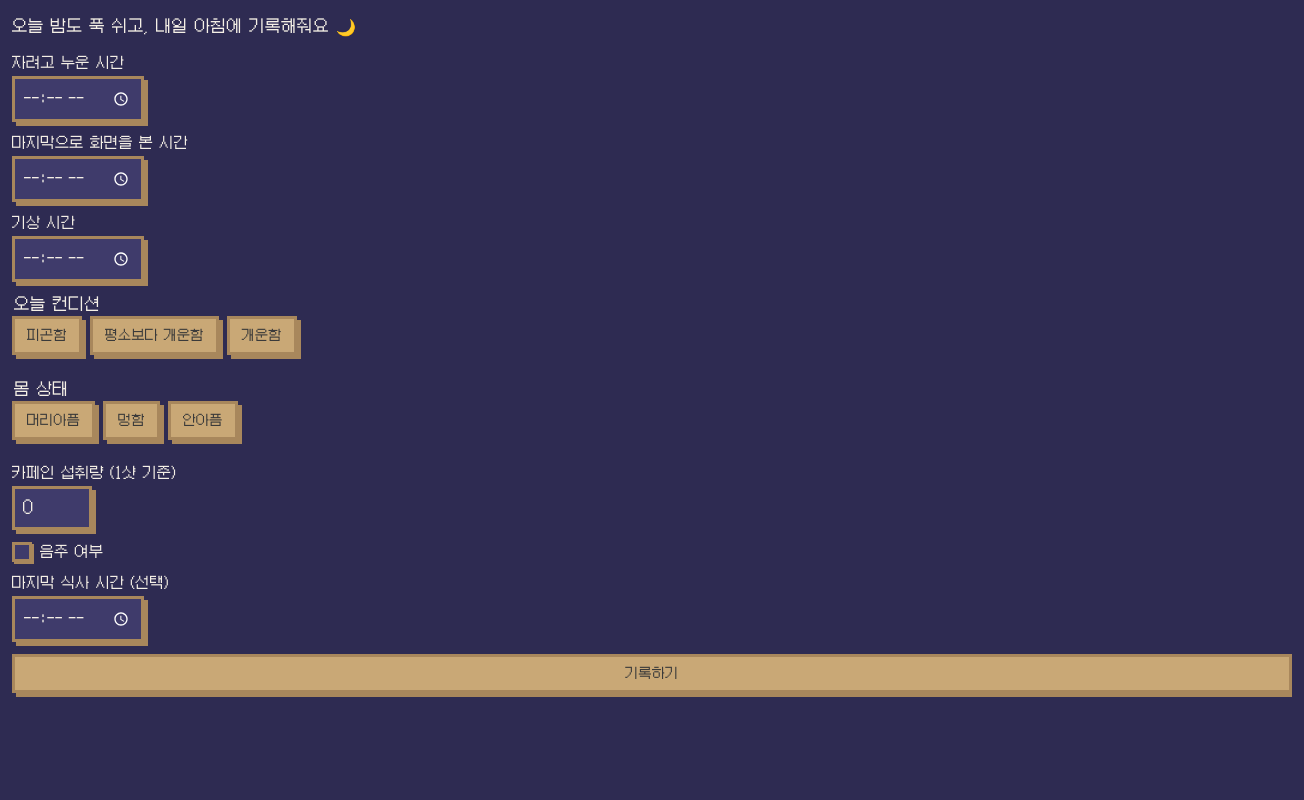
TodayPage › shows an inline error and stays on the form when saving fails
The image size is (1304, 800).
Type "23:00" into the time field labelled "자려고 누운 시간" at (78, 99), box 12,76 -> 144,122
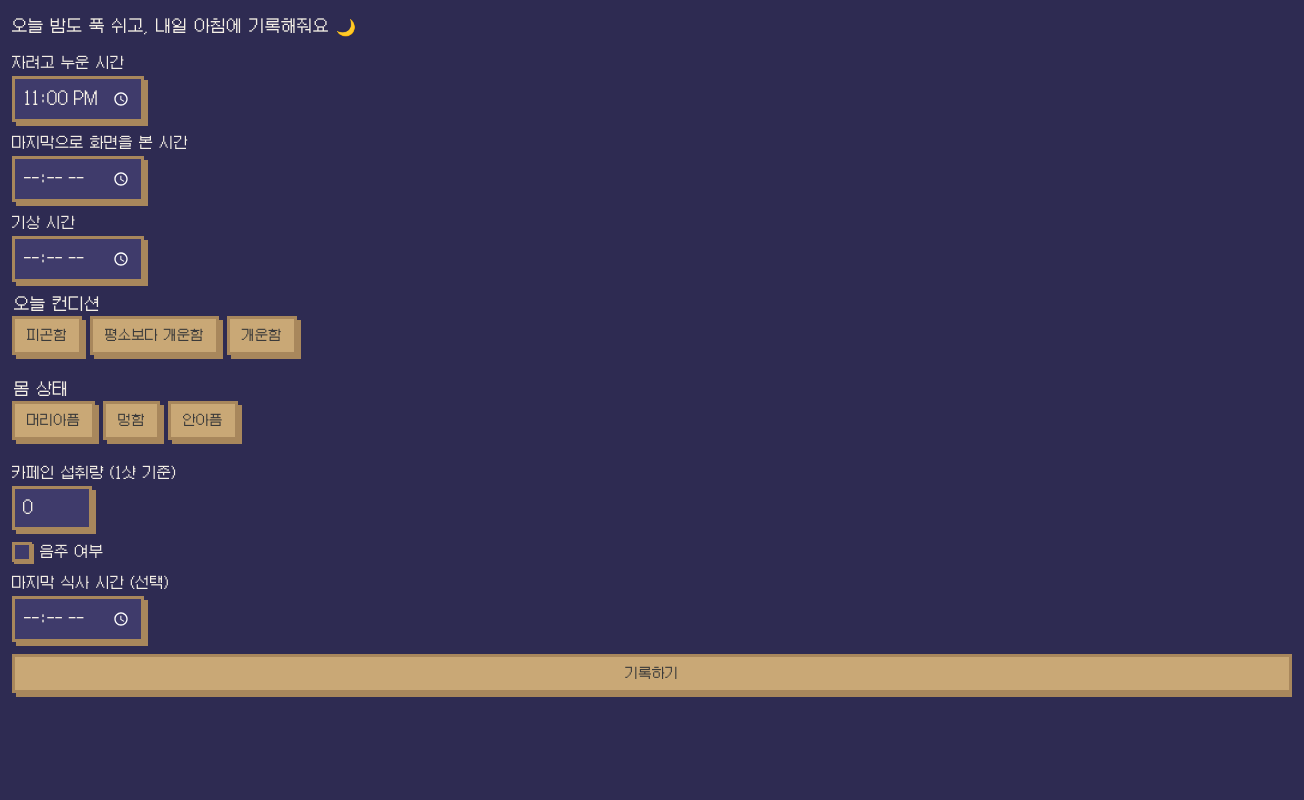
Type "23:30" into the time field labelled "마지막으로 화면을 본 시간" at (78, 179), box 12,156 -> 144,202
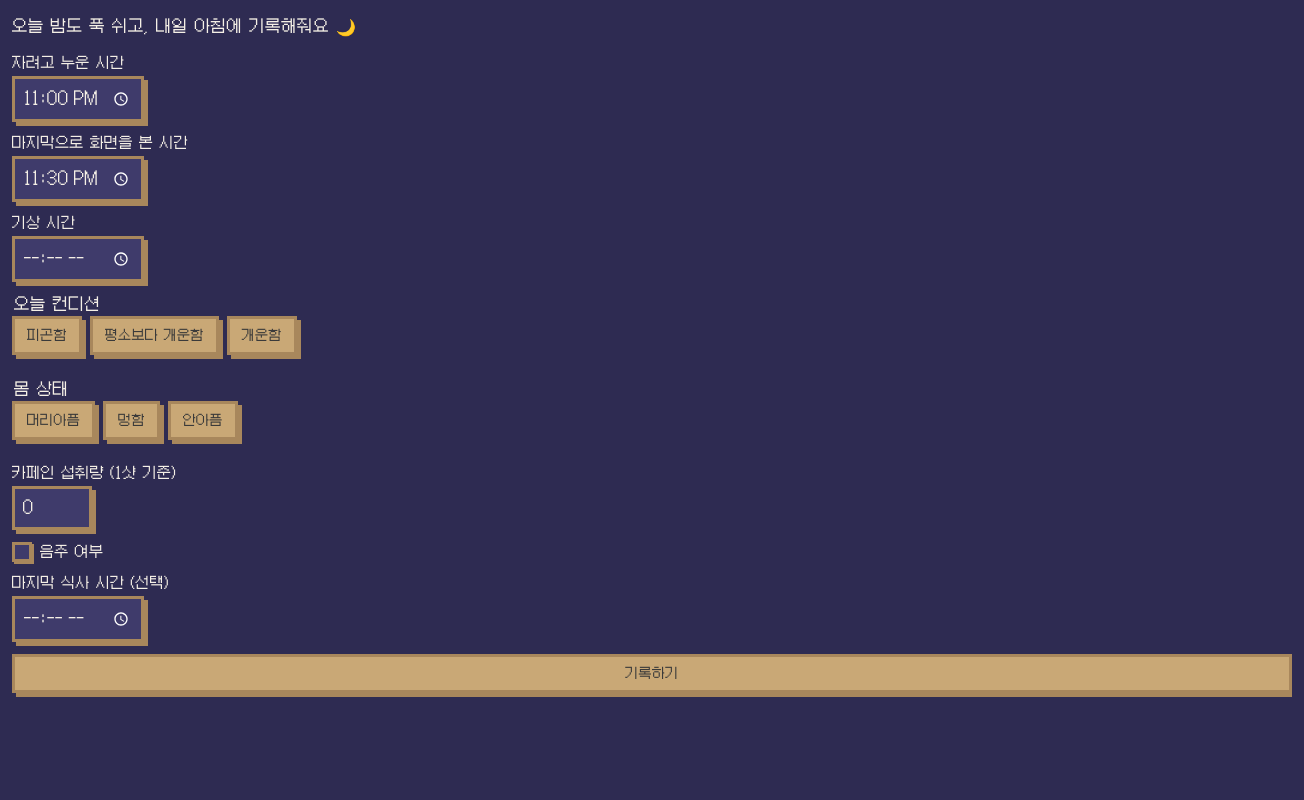
Type "07:00" into the time field labelled "기상 시간" at (78, 259), box 12,236 -> 144,282
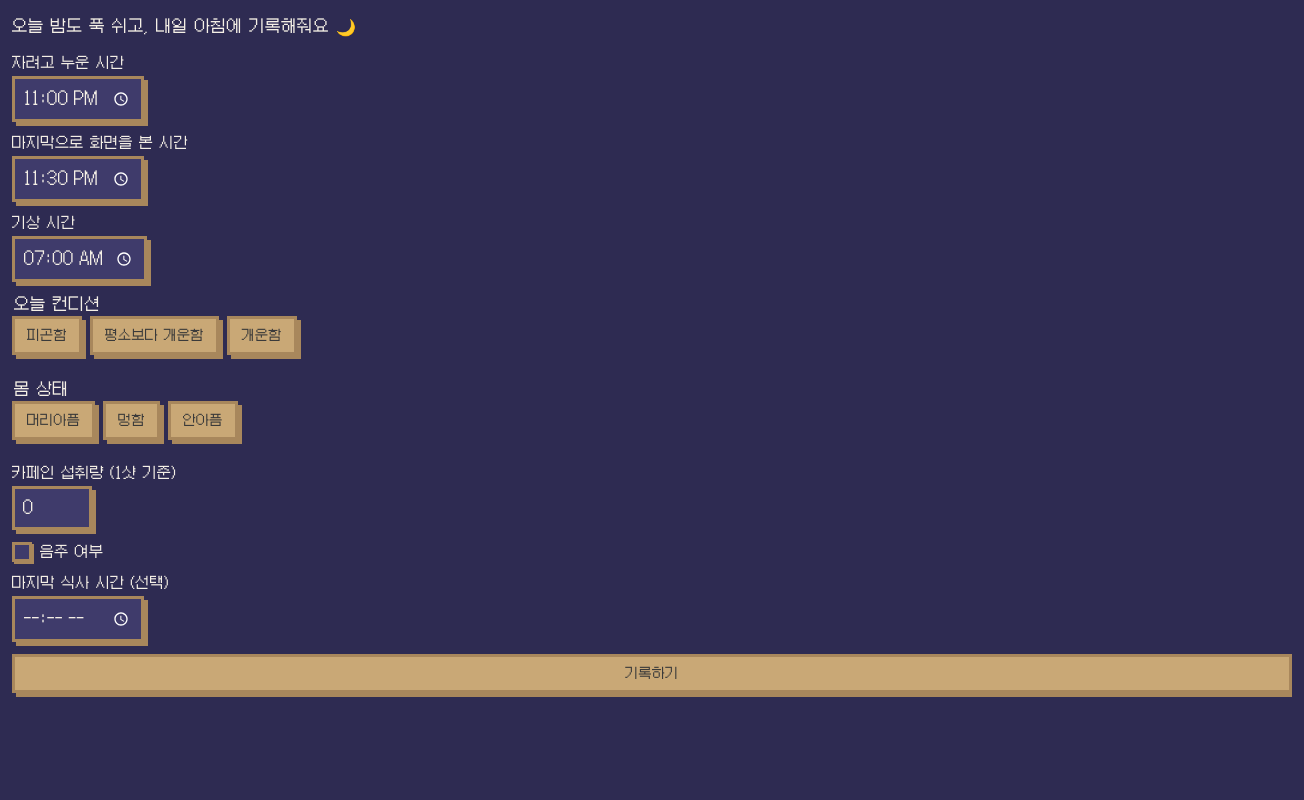
Click the button "개운함" at (262, 336), box 227,316 -> 297,355
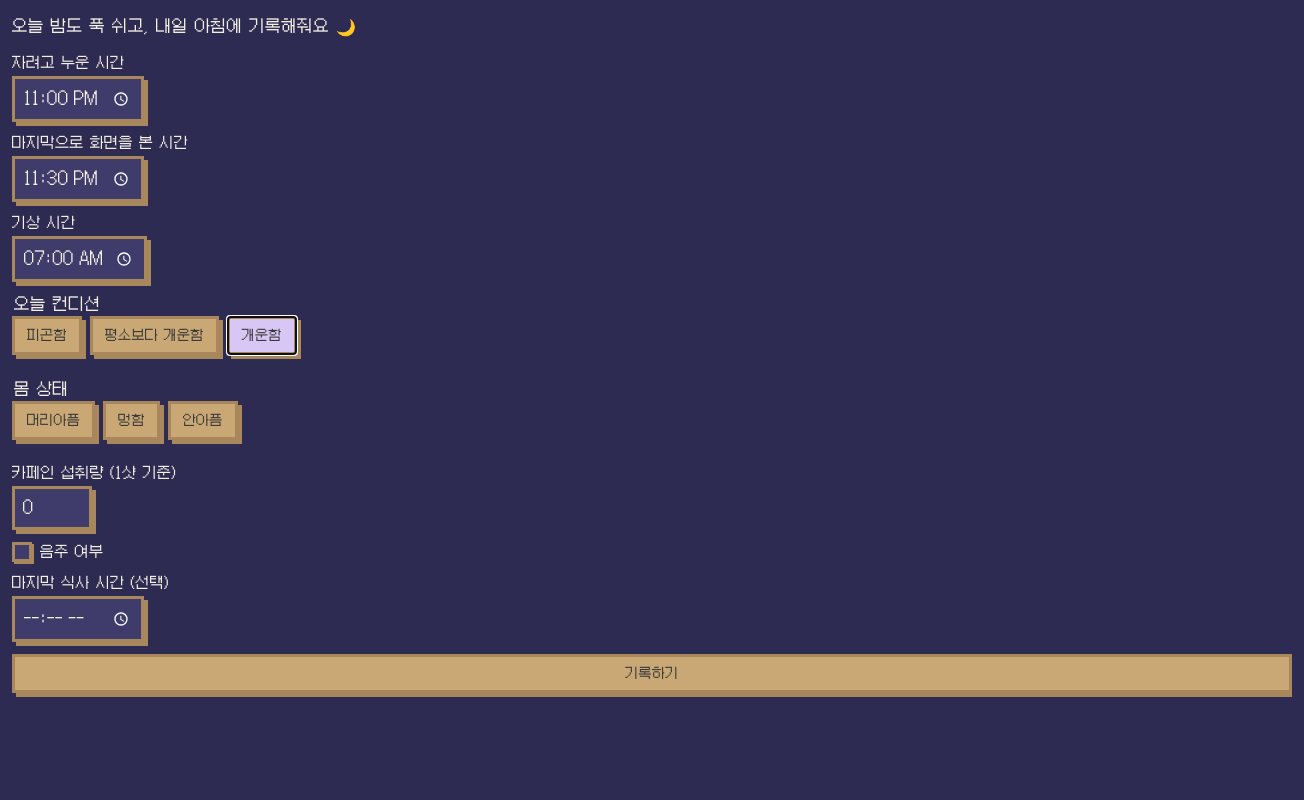
Click the button "안아픔" at (203, 420), box 168,401 -> 238,440
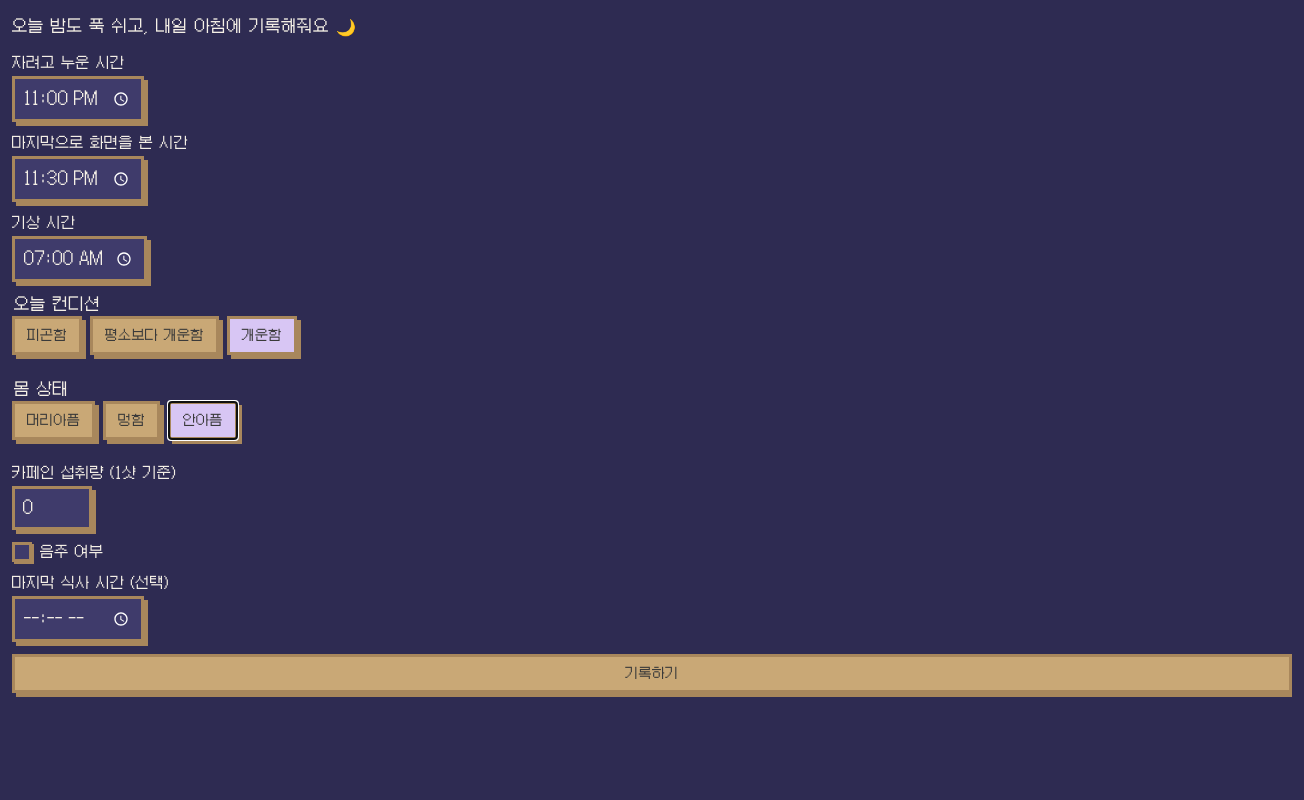
Click the button "기록하기" at (652, 674), box 12,654 -> 1292,693
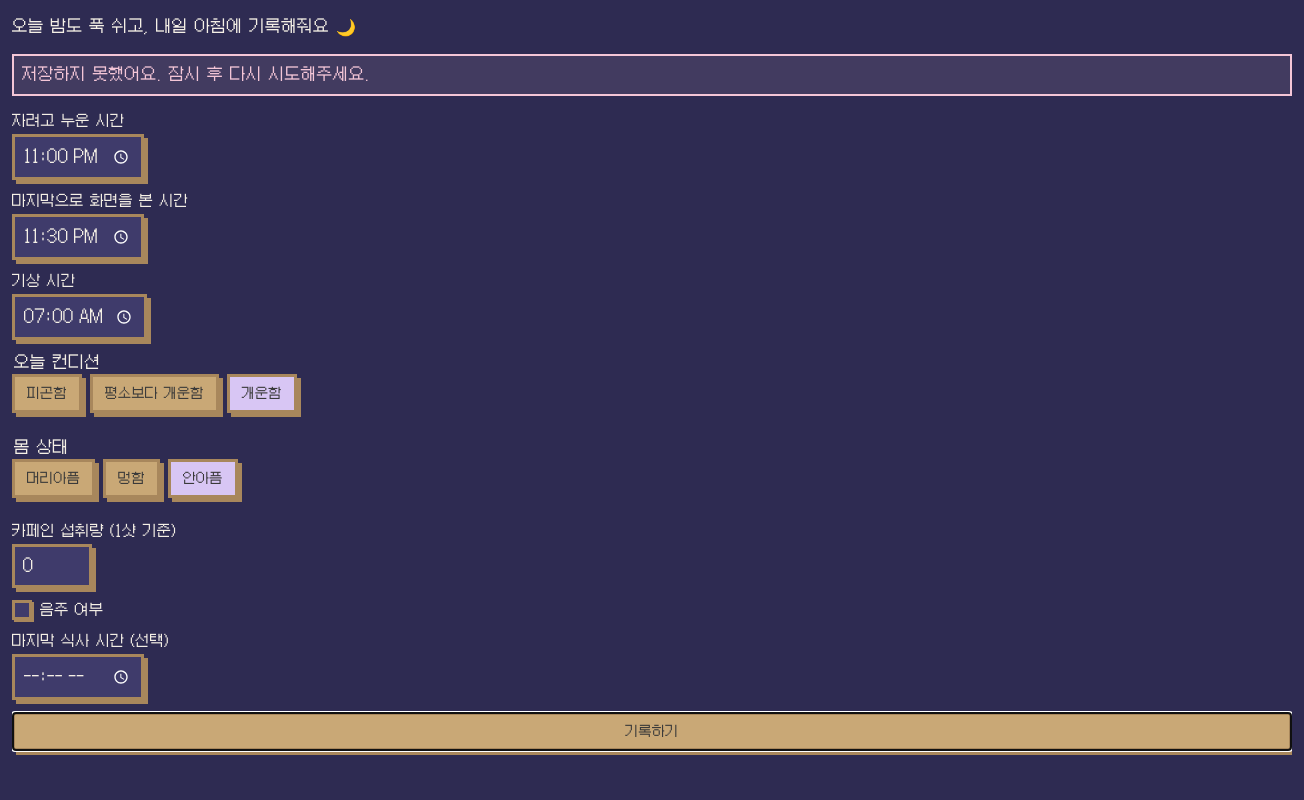
Now the text "저장하지 못했어요. 잠시 후 다시 시도해주세요." is shown, box 12,54 -> 1292,96
